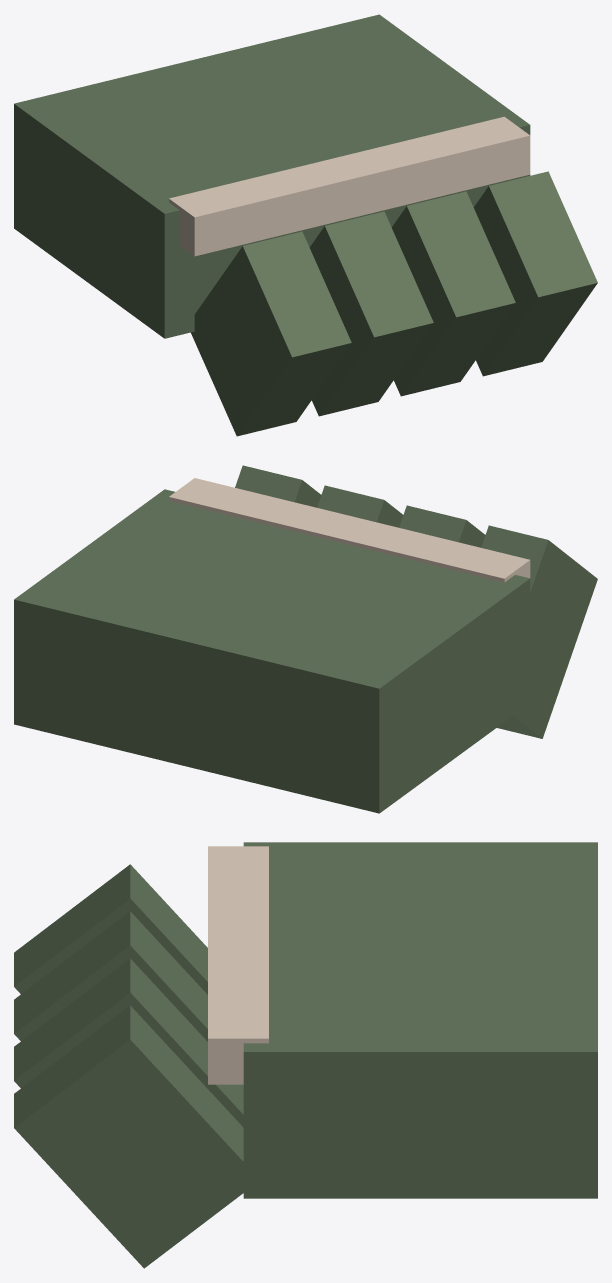
Rendered from inf_hocker_hand.fbx.
3 views of the same model, one above another, from view 1: azimuth 30°, elevation 25°; view 2: azimuth 150°, elevation 25°; view 3: azimuth 270°, elevation 25° (orthographic). The views are drawn at different scales.
Visible parts, largest first — view 1: inf_hocker_hand; view 2: inf_hocker_hand; view 3: inf_hocker_hand.
Part boxes in pixels (x1,y1,x2,y2): inf_hocker_hand: [14, 14, 597, 436]; inf_hocker_hand: [14, 465, 597, 813]; inf_hocker_hand: [14, 842, 597, 1268].
Size of the model in its own units: 98 by 51.96 by 115.
